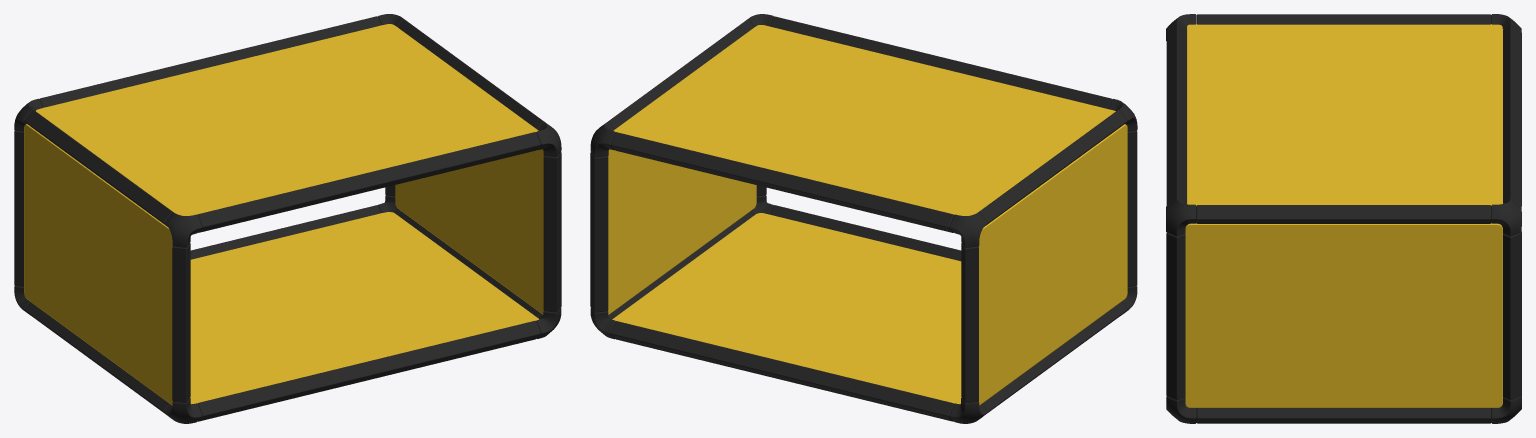
3 renders of one model, left to right at view 1: azimuth 30°, elevation 25°; view 2: azimuth 150°, elevation 25°; view 3: azimuth 270°, elevation 25°, orthographic. The views are drawn at different scales.
Visible parts, largest first — view 1: 523x374x229; view 2: 523x374x229; view 3: 523x374x229.
Boxes of the visible parts, x1,y1,x2,y2 form: 523x374x229: [14, 14, 561, 423]; 523x374x229: [590, 14, 1137, 423]; 523x374x229: [1166, 14, 1521, 423].
Size of the model in its own units: 0.6007 by 0.3067 by 0.4514.
